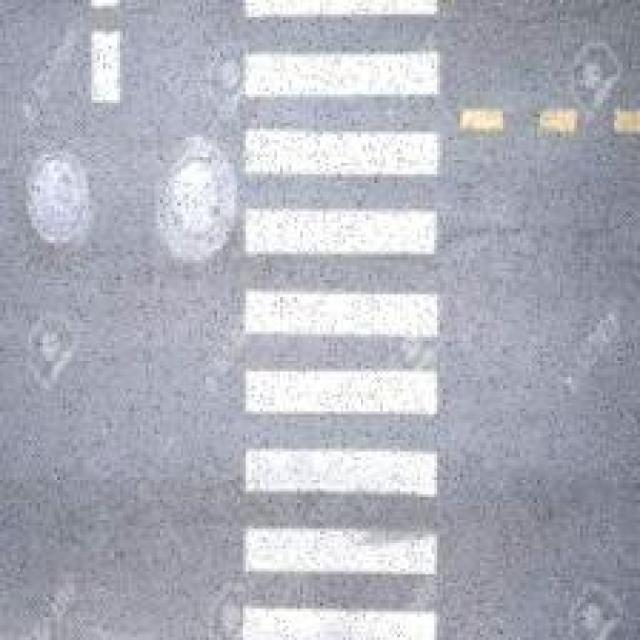crosswalk: (233, 0, 445, 640)
